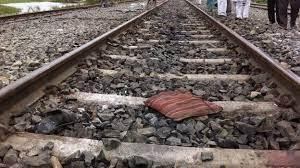mulch: (146, 85, 215, 119)
